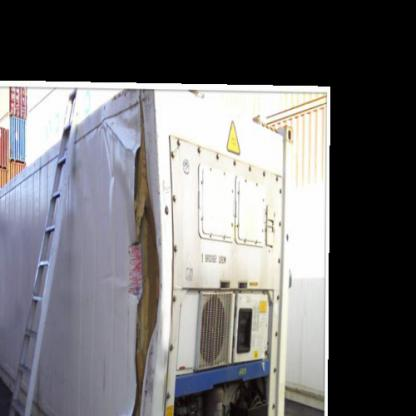Damage: (106, 103, 186, 415)
